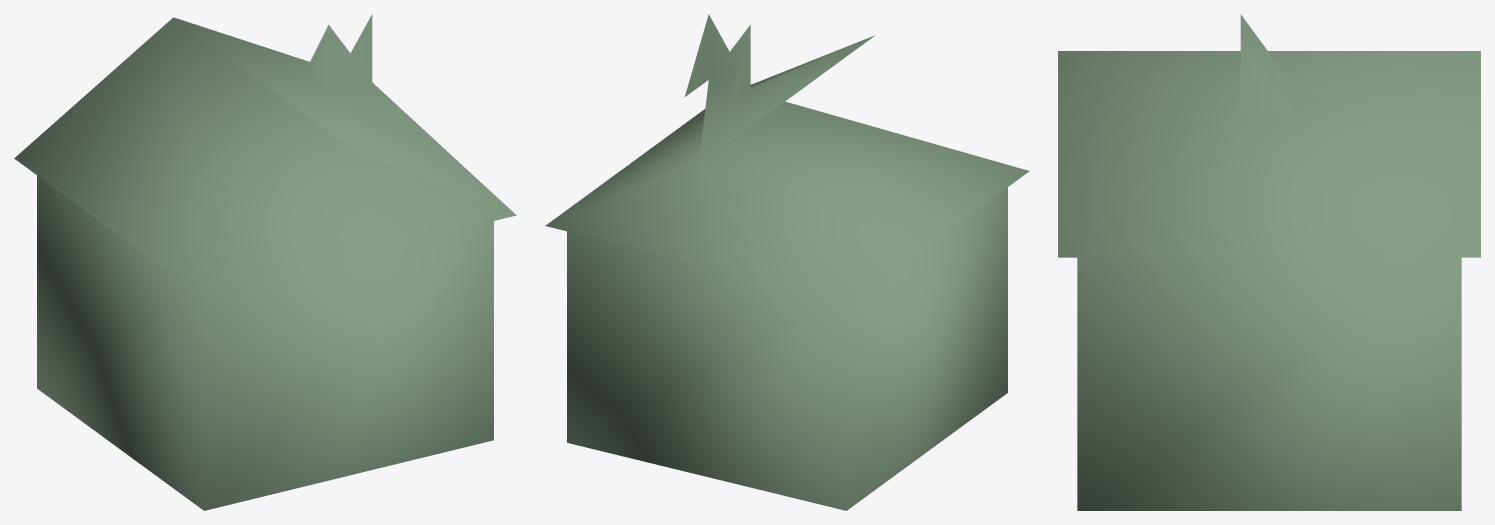
Rendered from healer.obj.
The picture shows the model from 3 angles, left to right: view 1: azimuth 30°, elevation 25°; view 2: azimuth 150°, elevation 25°; view 3: azimuth 270°, elevation 25°; orthographic projection. The views are drawn at different scales.
Parts seen in each view (by area): view 1: building; view 2: building; view 3: building.
Boxes of the visible parts, left/top/right/bottom form: building: left=14, top=14, right=516, bottom=510; building: left=545, top=14, right=1029, bottom=510; building: left=1058, top=14, right=1480, bottom=510.
Size of the model in its own units: 2.2 by 2.55 by 2.2.
